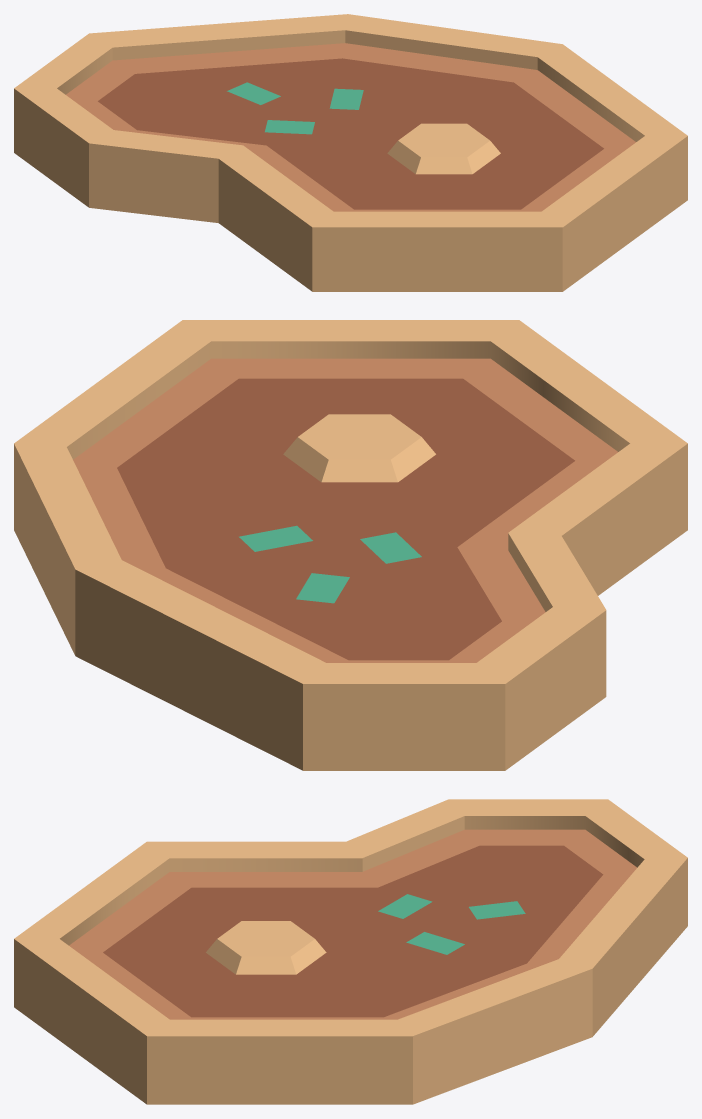
The model's file is meatCooked.obj.
3 renders of one model, top to bottom at view 1: azimuth 30°, elevation 25°; view 2: azimuth 150°, elevation 25°; view 3: azimuth 270°, elevation 25°, orthographic. The views are drawn at different scales.
Visible parts, largest first — view 1: meatCooked; view 2: meatCooked; view 3: meatCooked.
Part boxes in pixels (x1=…): meatCooked: x1=14, y1=14, x2=687, y2=291; meatCooked: x1=14, y1=320, x2=687, y2=770; meatCooked: x1=14, y1=799, x2=687, y2=1104.
Size of the model in its own units: 0.4785 by 0.0645 by 0.5754.
